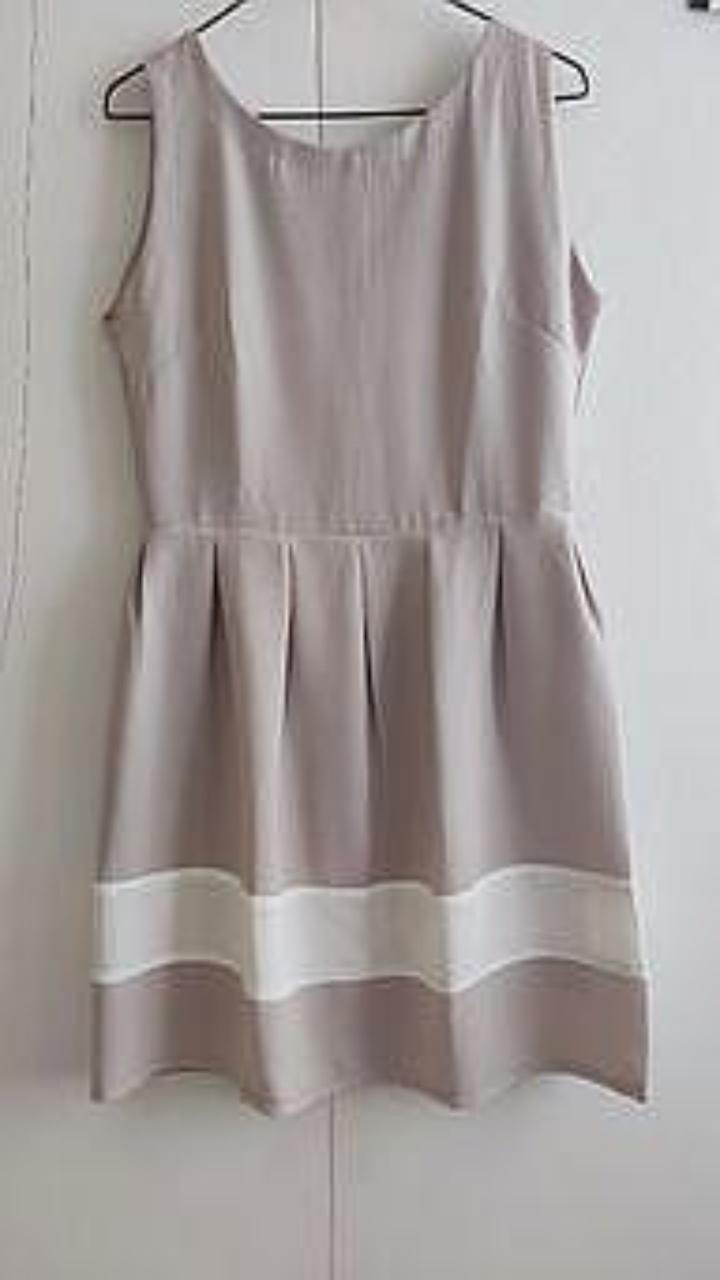Dresses: (91, 20, 646, 1113)
